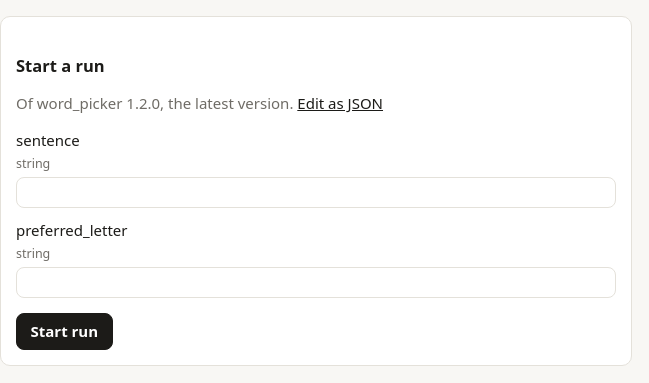
Test: StartRunForm › does not open the run once the reader has left the page
The image size is (649, 383).
Click the button "Start run": (64, 332) [16, 313, 113, 350]
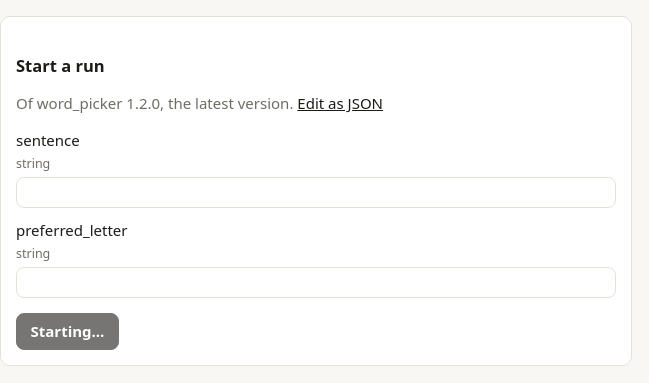
Result: the button "Starting…" is shown at [16, 313, 119, 350]
